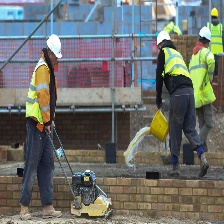helmet: (46, 33, 63, 61), (155, 30, 173, 49), (199, 25, 213, 44)
person: (21, 33, 63, 224), (155, 30, 196, 177), (190, 26, 217, 160)
vest: (25, 57, 54, 127), (194, 47, 214, 112), (161, 50, 192, 81)
